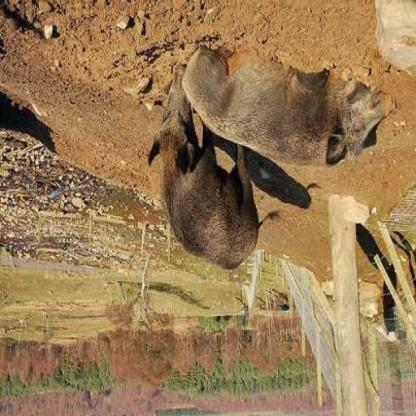boar: (199, 42, 415, 191), (144, 106, 283, 310)
